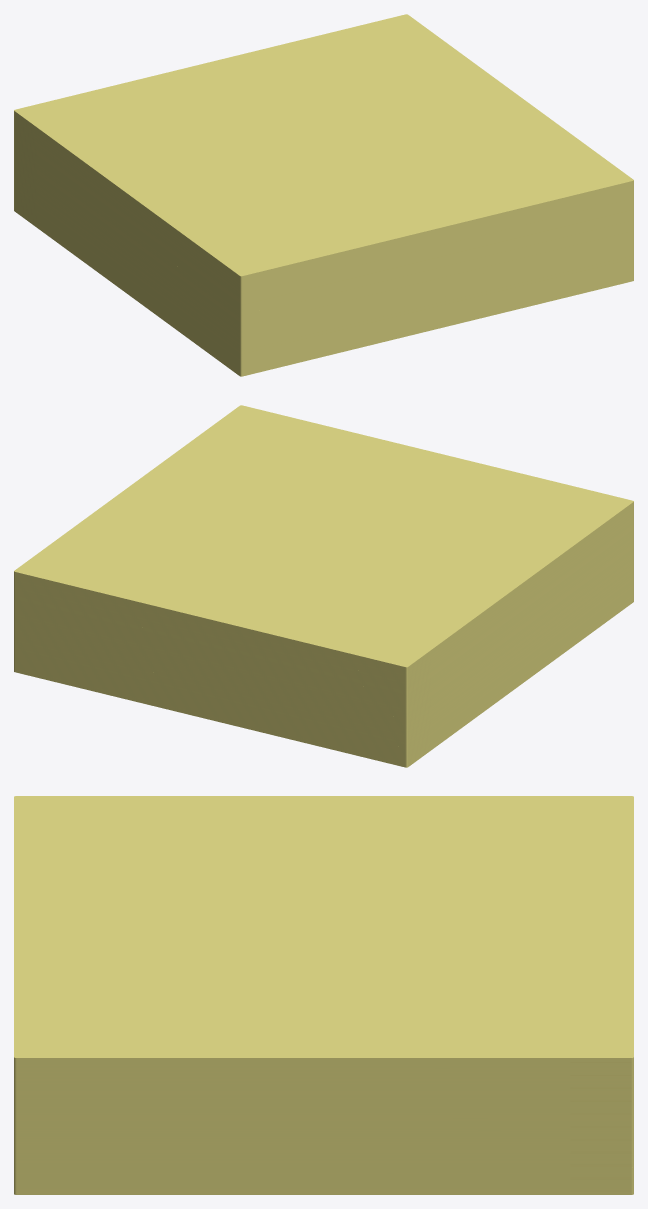
3 renders of one model, top to bottom at view 1: azimuth 30°, elevation 25°; view 2: azimuth 150°, elevation 25°; view 3: azimuth 270°, elevation 25°, orthographic. The views are drawn at different scales.
Parts seen in each view (by area): view 1: Note sheet 200, Note sheet 187, Note sheet 189, Note sheet 191, Note sheet 193, Note sheet 049, Note sheet 053, Note sheet 057, Note sheet 059, Note sheet 154, Note sheet 156, Note sheet 158 (+188 smaller); view 2: Note sheet 200, Note sheet 001, Note sheet 156, Note sheet 053, Note sheet 055, Note sheet 057, Note sheet 154, Note sheet 158, Note sheet 163, Note sheet 166, Note sheet 187, Note sheet 043 (+188 smaller); view 3: Note sheet 200, Note sheet 009, Note sheet 012, Note sheet 015, Note sheet 018, Note sheet 028, Note sheet 031, Note sheet 034, Note sheet 037, Note sheet 047, Note sheet 050, Note sheet 053 (+188 smaller).
Part boxes in pixels (x1=…): Note sheet 200: x1=14, y1=14, x2=633, y2=276; Note sheet 187: x1=14, y1=117, x2=633, y2=283; Note sheet 189: x1=14, y1=116, x2=633, y2=282; Note sheet 191: x1=14, y1=115, x2=633, y2=281; Note sheet 193: x1=14, y1=114, x2=633, y2=280; Note sheet 049: x1=14, y1=186, x2=633, y2=352; Note sheet 053: x1=14, y1=184, x2=633, y2=350; Note sheet 057: x1=14, y1=182, x2=633, y2=348; Note sheet 059: x1=14, y1=181, x2=633, y2=347; Note sheet 154: x1=14, y1=134, x2=633, y2=299; Note sheet 156: x1=14, y1=133, x2=633, y2=298; Note sheet 158: x1=14, y1=132, x2=633, y2=297; Note sheet 200: x1=14, y1=405, x2=633, y2=667; Note sheet 001: x1=14, y1=602, x2=633, y2=767; Note sheet 156: x1=14, y1=524, x2=633, y2=689; Note sheet 053: x1=14, y1=575, x2=633, y2=741; Note sheet 055: x1=14, y1=574, x2=633, y2=740; Note sheet 057: x1=14, y1=573, x2=633, y2=739; Note sheet 154: x1=14, y1=525, x2=633, y2=690; Note sheet 158: x1=14, y1=523, x2=633, y2=688; Note sheet 163: x1=14, y1=520, x2=633, y2=686; Note sheet 166: x1=14, y1=519, x2=633, y2=684; Note sheet 187: x1=14, y1=508, x2=633, y2=674; Note sheet 043: x1=14, y1=580, x2=633, y2=746; Note sheet 200: x1=14, y1=796, x2=633, y2=1058; Note sheet 009: x1=14, y1=1188, x2=633, y2=1189; Note sheet 012: x1=14, y1=1186, x2=633, y2=1187; Note sheet 015: x1=14, y1=1184, x2=633, y2=1185; Note sheet 018: x1=14, y1=1182, x2=633, y2=1183; Note sheet 028: x1=14, y1=1175, x2=633, y2=1176; Note sheet 031: x1=14, y1=1173, x2=633, y2=1174; Note sheet 034: x1=14, y1=1171, x2=633, y2=1172; Note sheet 037: x1=14, y1=1169, x2=633, y2=1170; Note sheet 047: x1=14, y1=1162, x2=633, y2=1163; Note sheet 050: x1=14, y1=1160, x2=633, y2=1161; Note sheet 053: x1=14, y1=1158, x2=633, y2=1159.
Size of the model in its own units: 0.078 by 0.019 by 0.078.
